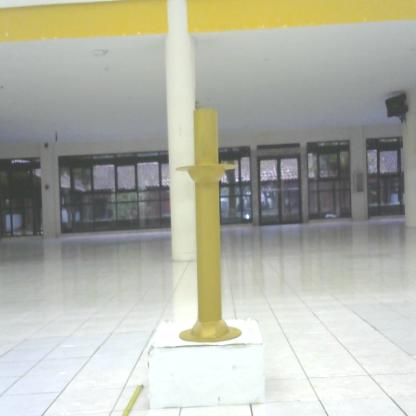pole: (171, 96, 253, 348)
